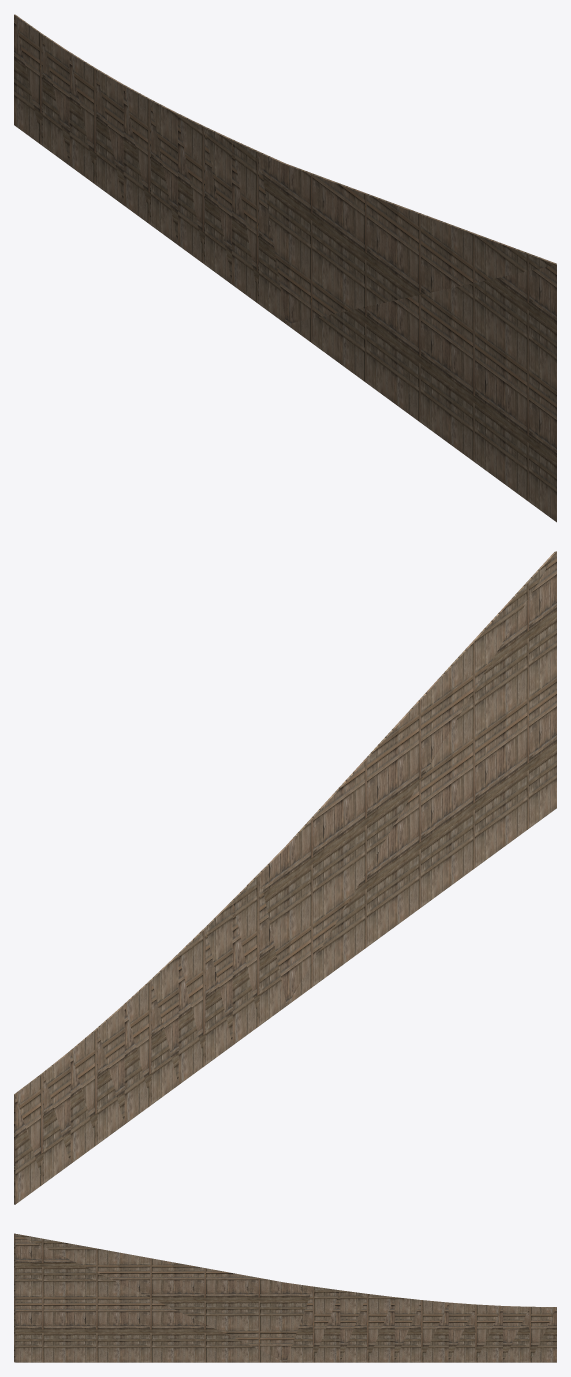
The model's file is fence.obj.
The picture shows the model from 3 angles, top to bottom: view 1: azimuth 30°, elevation 25°; view 2: azimuth 150°, elevation 25°; view 3: azimuth 270°, elevation 25°; orthographic projection. The views are drawn at different scales.
Visible parts, largest first — view 1: Fence_Plane.015; view 2: Fence_Plane.015; view 3: Fence_Plane.015.
Boxes of the visible parts, x1,y1,x2,y2 form: Fence_Plane.015: (14, 14, 556, 522); Fence_Plane.015: (14, 551, 556, 1204); Fence_Plane.015: (14, 1233, 556, 1362).
Size of the model in its own units: 0.025 by 5.25 by 20.05.
